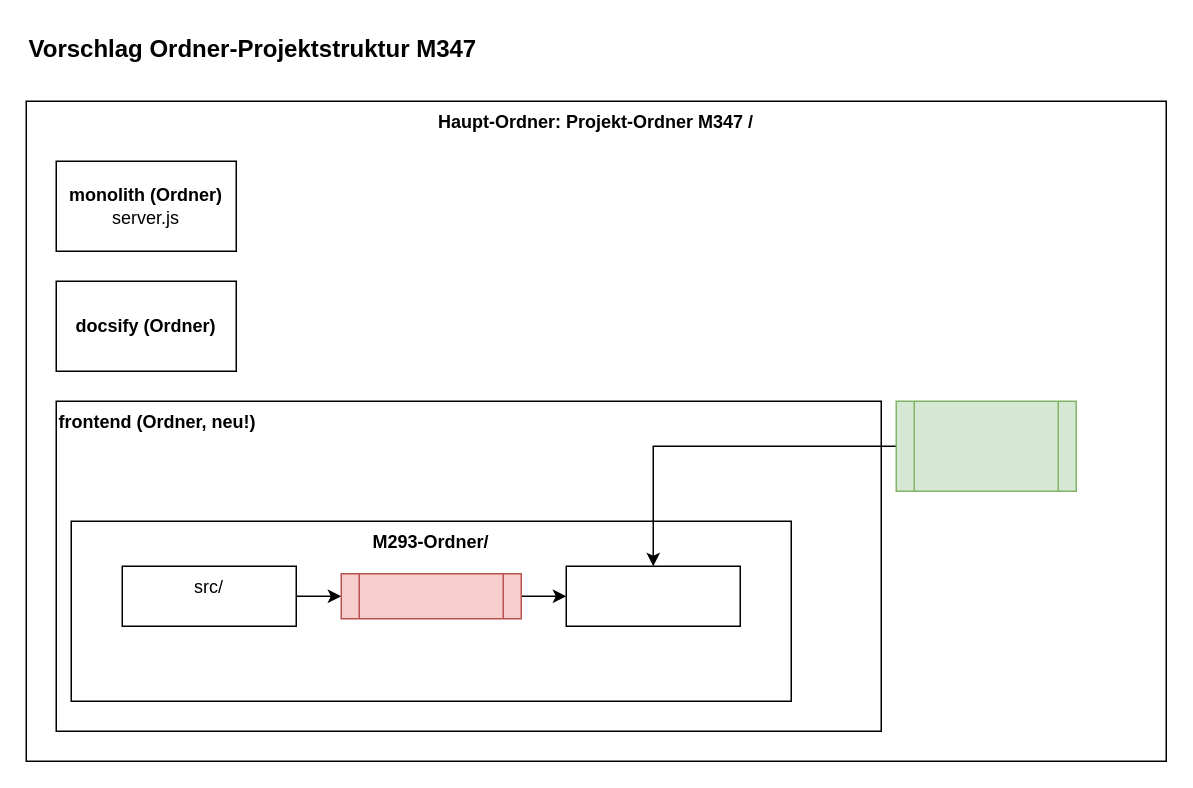
This 1193x788 diagram has some shape labels left out. Here are the shapes that lost their labels. From the top down, the centre of each, then its label:
point 985,445: httpd-Docker-Container
point 430,595: 11ty serve/build
point 652,595: site/
